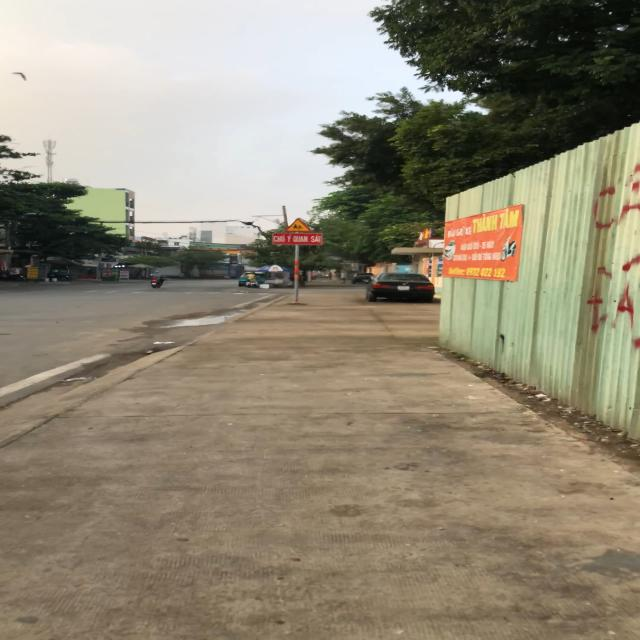Bien bao tre em: (284, 218, 312, 232)
